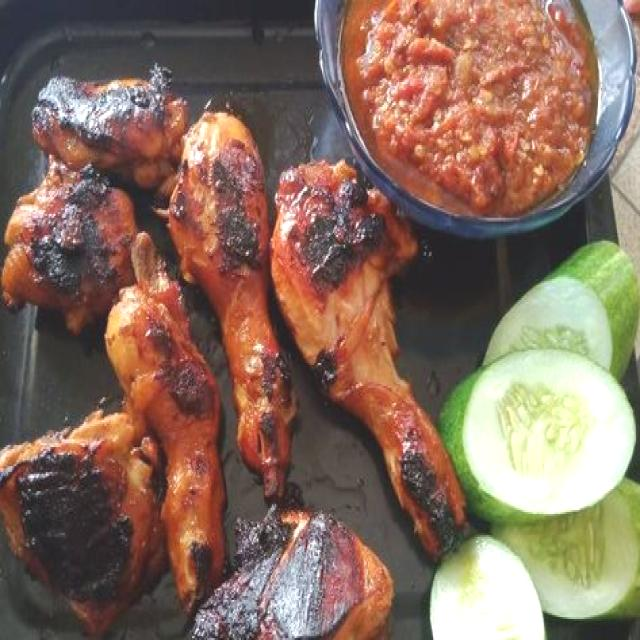ayam bakar: (269, 159, 476, 562), (160, 105, 298, 504), (4, 59, 214, 321), (106, 283, 226, 617), (0, 411, 166, 640), (185, 510, 390, 640)
